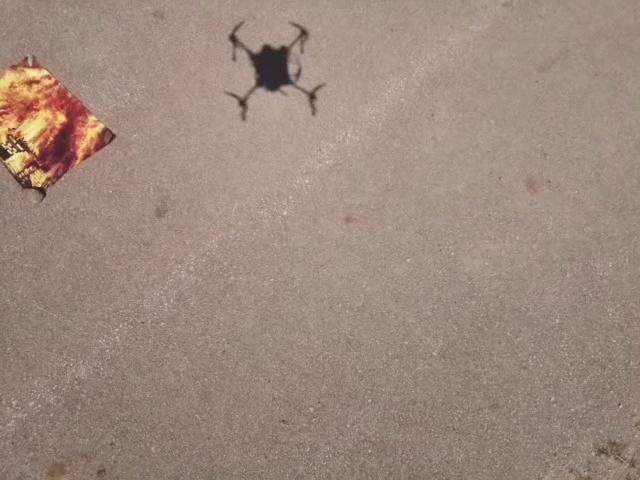fire-poster: (0, 52, 117, 203)
